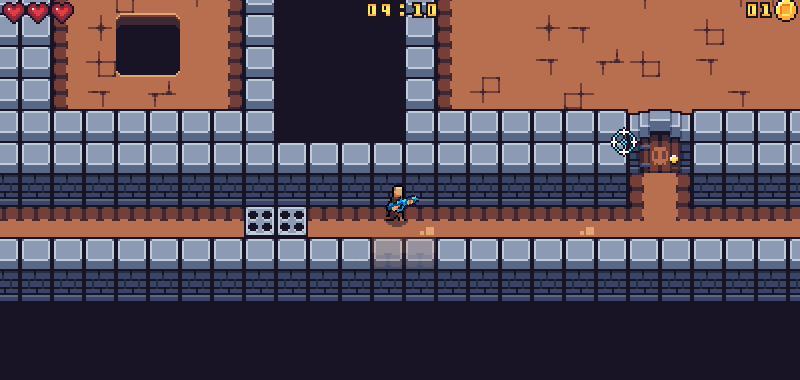door: (626, 107, 695, 172)
trap_off: (243, 206, 308, 237)
